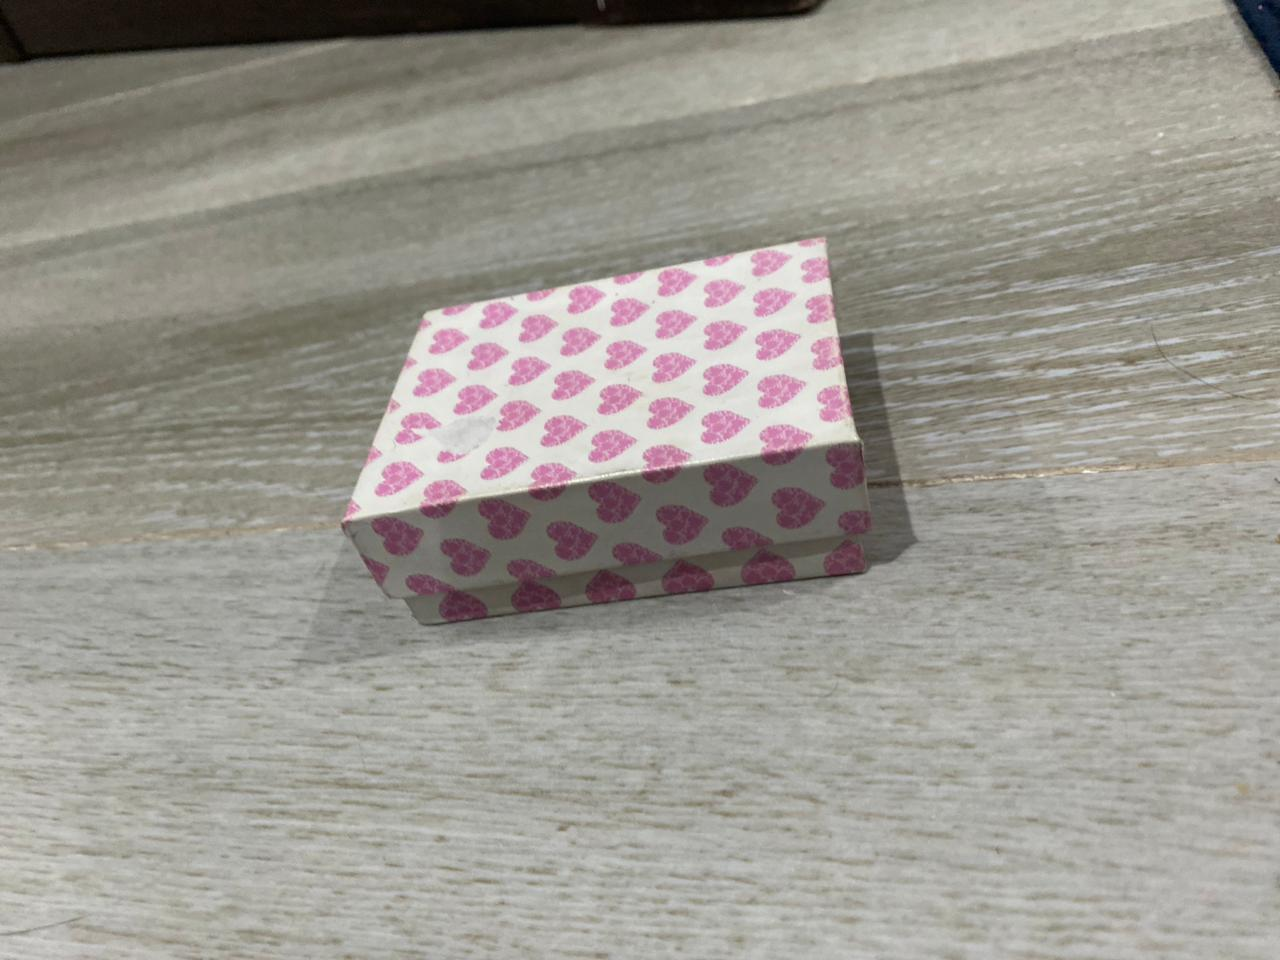Pink Box: (334, 232, 883, 632)
